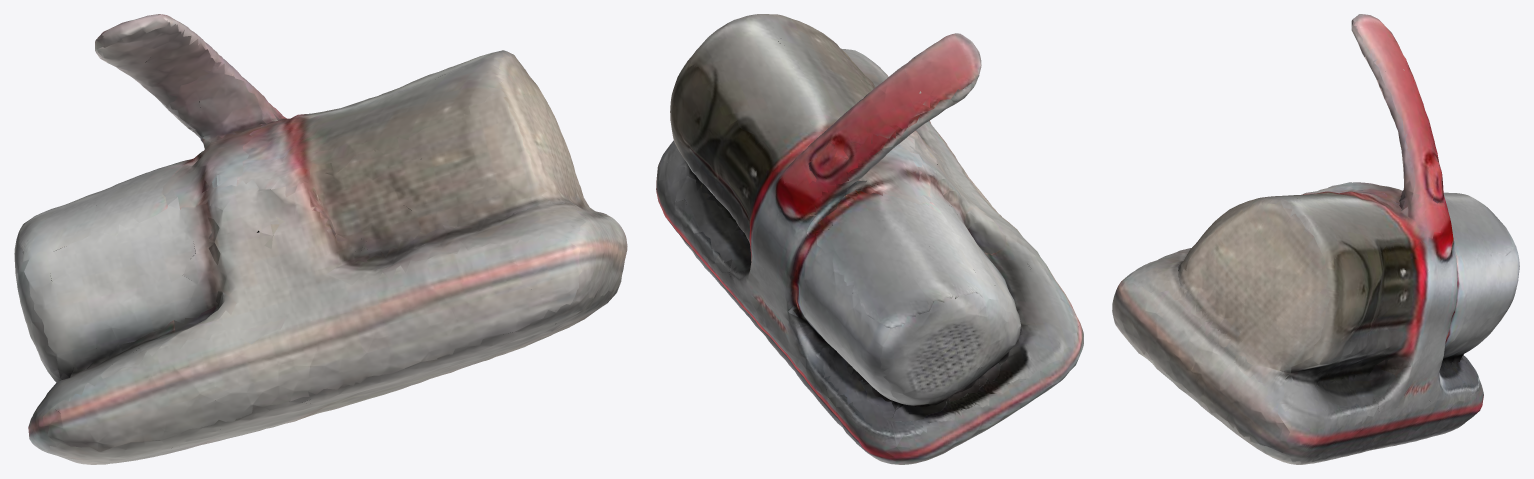
Rendered from 신일_침구_청소기_20251025_061939_mesh.glb.
3 views of the same model, side by side, from view 1: azimuth 30°, elevation 25°; view 2: azimuth 150°, elevation 25°; view 3: azimuth 270°, elevation 25° (orthographic). The views are drawn at different scales.
Visible parts, largest first — view 1: world; view 2: world; view 3: world.
Part boxes in pixels (x1=…): world: x1=14, y1=14, x2=627, y2=464; world: x1=656, y1=14, x2=1083, y2=464; world: x1=1112, y1=14, x2=1519, y2=464.
Size of the model in its own units: 0.9718 by 0.824 by 0.7742.
Materials: 1 (1 with a texture image).
